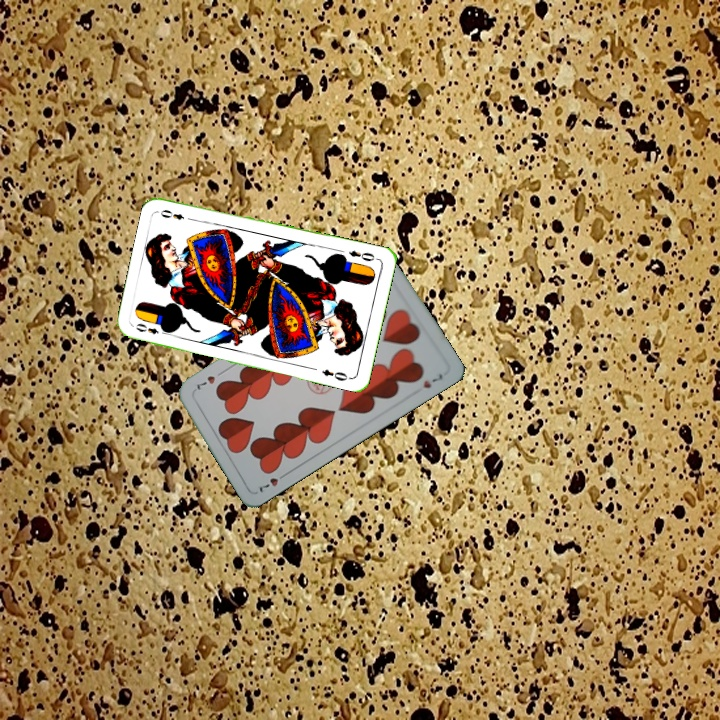EO: (132, 319, 171, 338), (345, 246, 380, 264)
H7: (254, 468, 290, 495)
